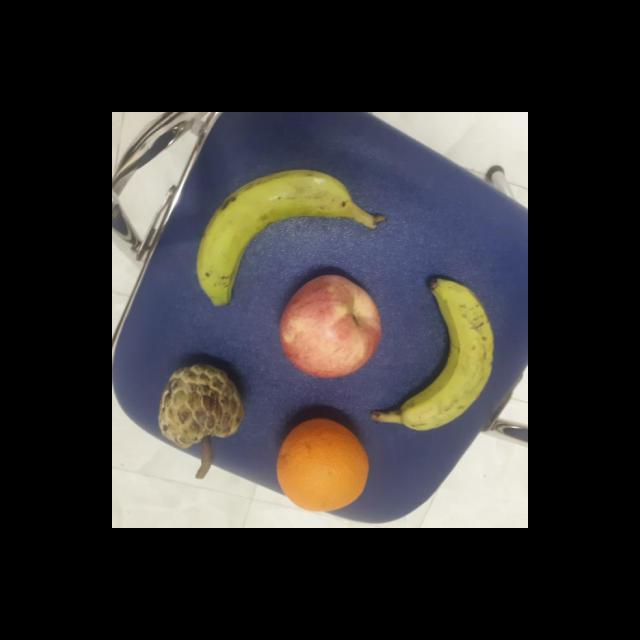Sakya fruit: (156, 351, 250, 450)
apple: (276, 273, 392, 382)
banana: (192, 165, 388, 307), (368, 272, 500, 433)
orange: (272, 418, 371, 516)
